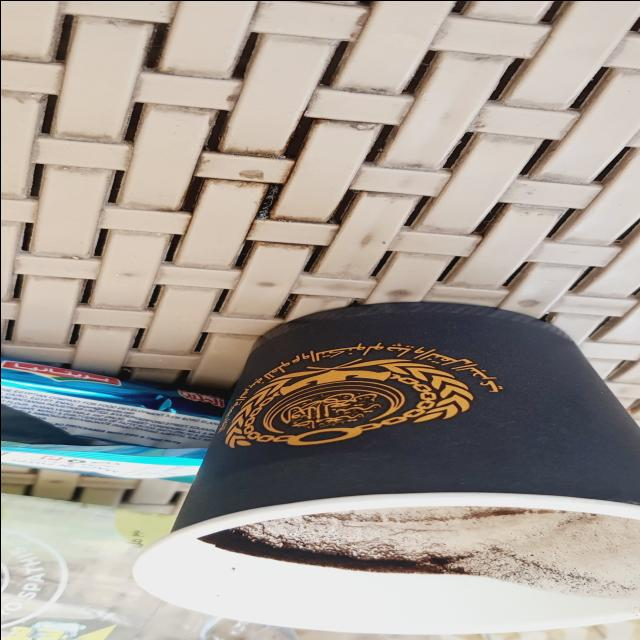paper: (135, 298, 640, 632)
